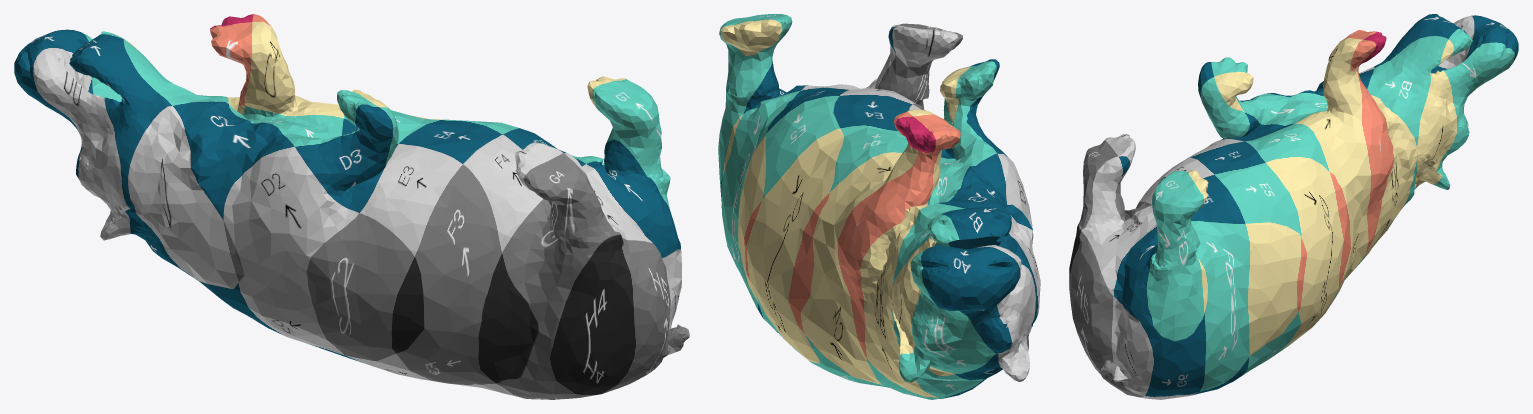
Rendered from hippo_06-hippo_03.obj.
3 renders of one model, left to right at view 1: azimuth 30°, elevation 25°; view 2: azimuth 150°, elevation 25°; view 3: azimuth 270°, elevation 25°, orthographic. The views are drawn at different scales.
Visible parts, largest first — view 1: hippo_06-hippo_03_export; view 2: hippo_06-hippo_03_export; view 3: hippo_06-hippo_03_export.
Boxes of the visible parts, box(x1,y1,x2,y2) form: hippo_06-hippo_03_export: box(14, 14, 689, 399); hippo_06-hippo_03_export: box(718, 14, 1040, 399); hippo_06-hippo_03_export: box(1069, 14, 1518, 399).
Bounding box in the file's own units: 0.7165 × 0.4961 × 0.7299.
